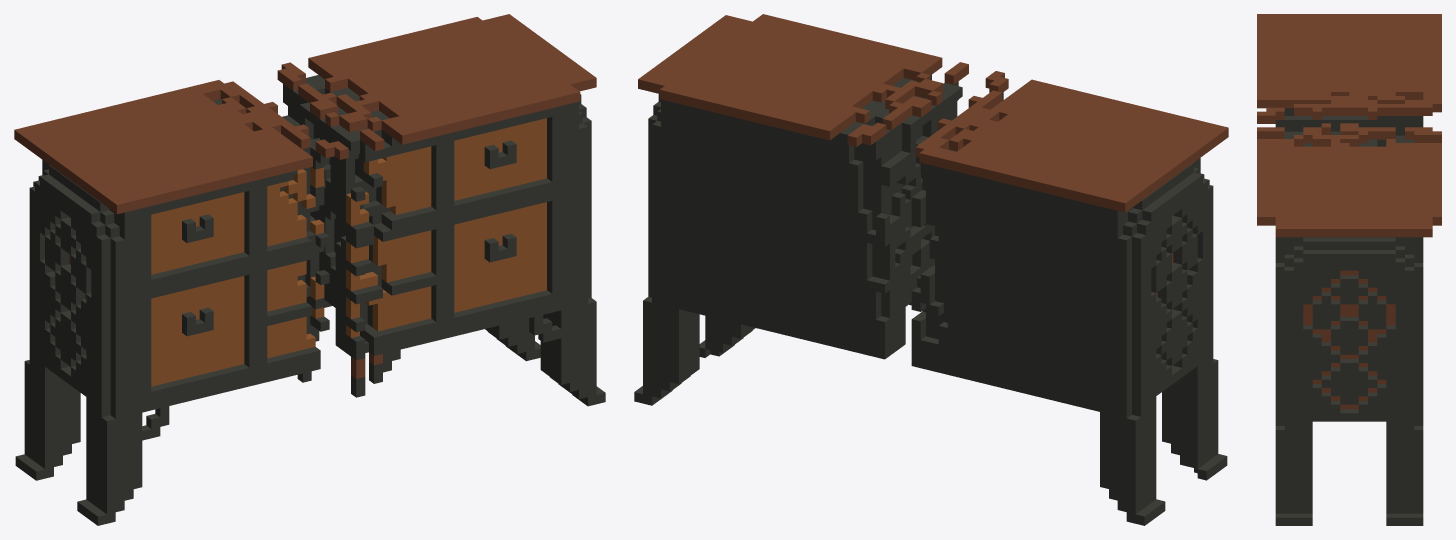
The model's file is Commode 3 brise.obj.
3 renders of one model, left to right at view 1: azimuth 30°, elevation 25°; view 2: azimuth 150°, elevation 25°; view 3: azimuth 270°, elevation 25°, orthographic. The views are drawn at different scales.
Visible parts, largest first — view 1: Commode 3 brise; view 2: Commode 3 brise; view 3: Commode 3 brise.
Boxes of the visible parts, bbox=[...] form: Commode 3 brise: bbox=[14, 14, 605, 525]; Commode 3 brise: bbox=[634, 14, 1228, 525]; Commode 3 brise: bbox=[1257, 14, 1441, 525].
Size of the model in its own units: 57 by 35 by 20.
Materials: 1 (1 with a texture image).
